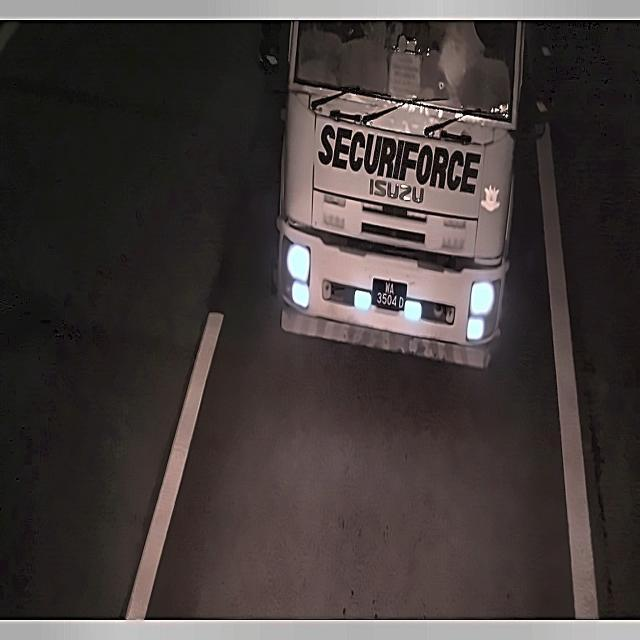car: (366, 272, 407, 318)
